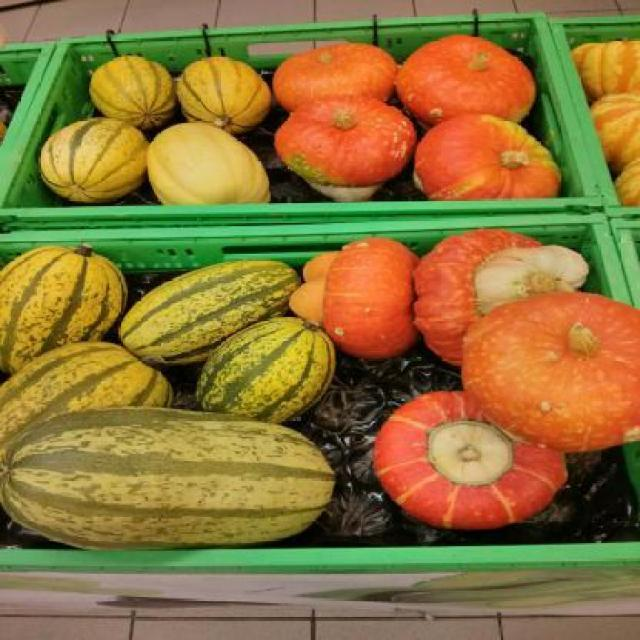Pumpkin: (459, 289, 639, 451), (369, 389, 574, 531), (415, 228, 588, 370), (272, 92, 414, 202), (320, 230, 425, 370), (406, 112, 557, 202), (392, 32, 532, 128), (273, 42, 404, 113), (572, 36, 640, 101), (594, 88, 638, 170), (612, 158, 640, 212)
